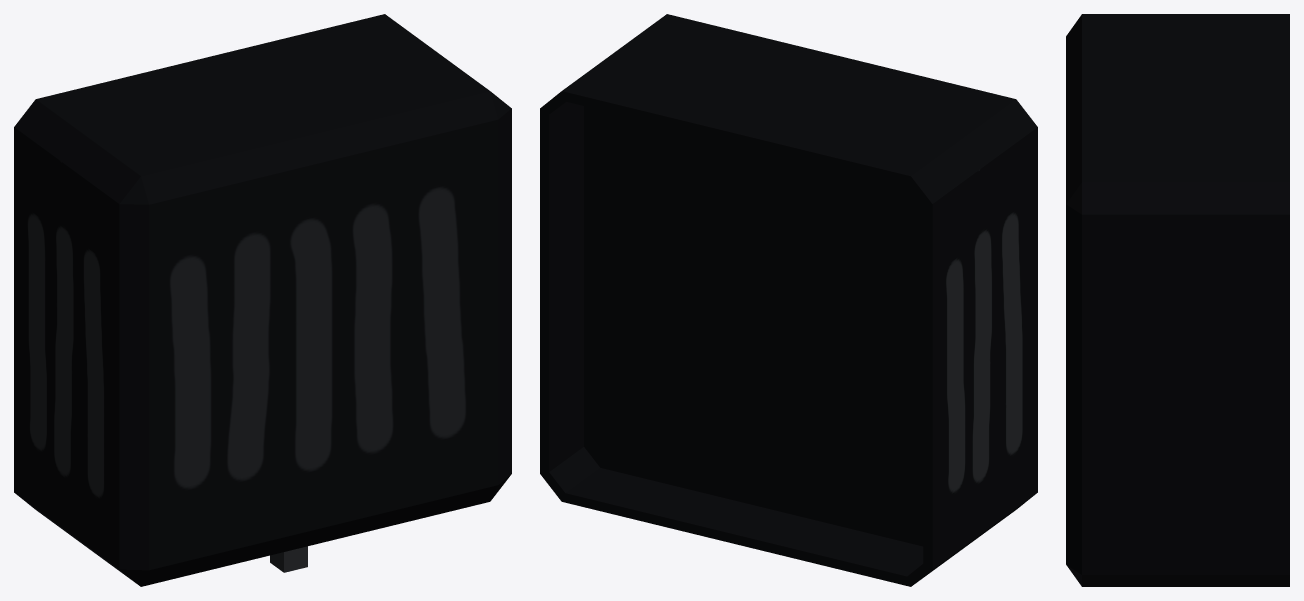
The model's file is oxygenpumpbase.glb.
3 views of the same model, side by side, from view 1: azimuth 30°, elevation 25°; view 2: azimuth 150°, elevation 25°; view 3: azimuth 270°, elevation 25° (orthographic).
Parts seen in each view (by area): view 1: oxygenpumpbase; view 2: oxygenpumpbase; view 3: oxygenpumpbase.
Part boxes in pixels (x1,y1,x2,y2): oxygenpumpbase: (14, 14, 511, 586); oxygenpumpbase: (540, 14, 1037, 586); oxygenpumpbase: (1066, 14, 1289, 586).
Size of the model in its own units: 3.94 by 4.32 by 1.97.
1 material, 1 textured.
